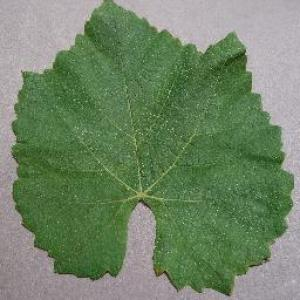Folha: (9, 0, 294, 296)
